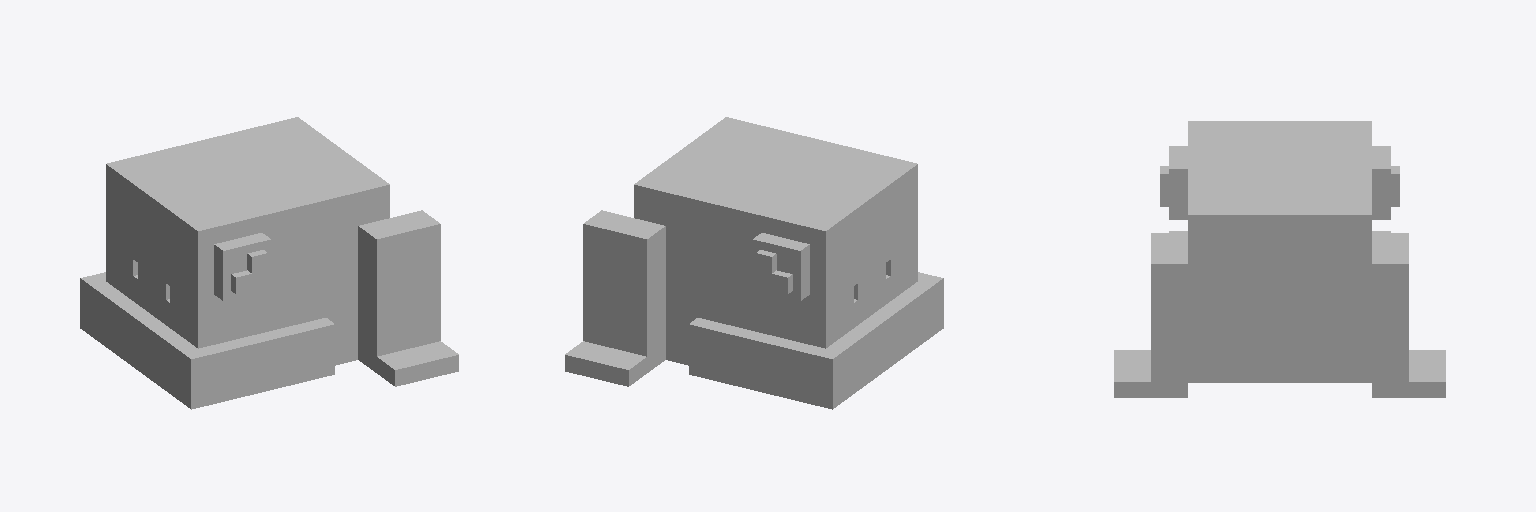
File: _frog.obj
The picture shows the model from 3 angles: view 1: azimuth 30°, elevation 25°; view 2: azimuth 150°, elevation 25°; view 3: azimuth 270°, elevation 25°; orthographic projection.
Parts seen in each view (by area): view 1: Mesh1 Model; view 2: Mesh1 Model; view 3: Mesh1 Model.
Boxes of the visible parts, x1=… form: Mesh1 Model: x1=80, y1=117, x2=458, y2=409; Mesh1 Model: x1=565, y1=117, x2=943, y2=409; Mesh1 Model: x1=1114, y1=121, x2=1445, y2=397.
Size of the model in its own units: 1.5 by 1 by 1.8.